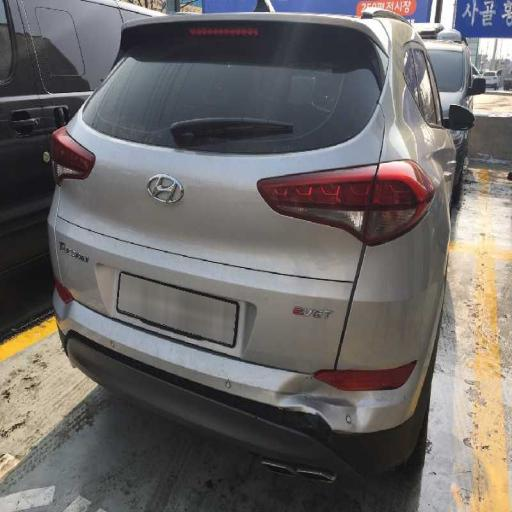dent: (255, 353, 386, 488)
